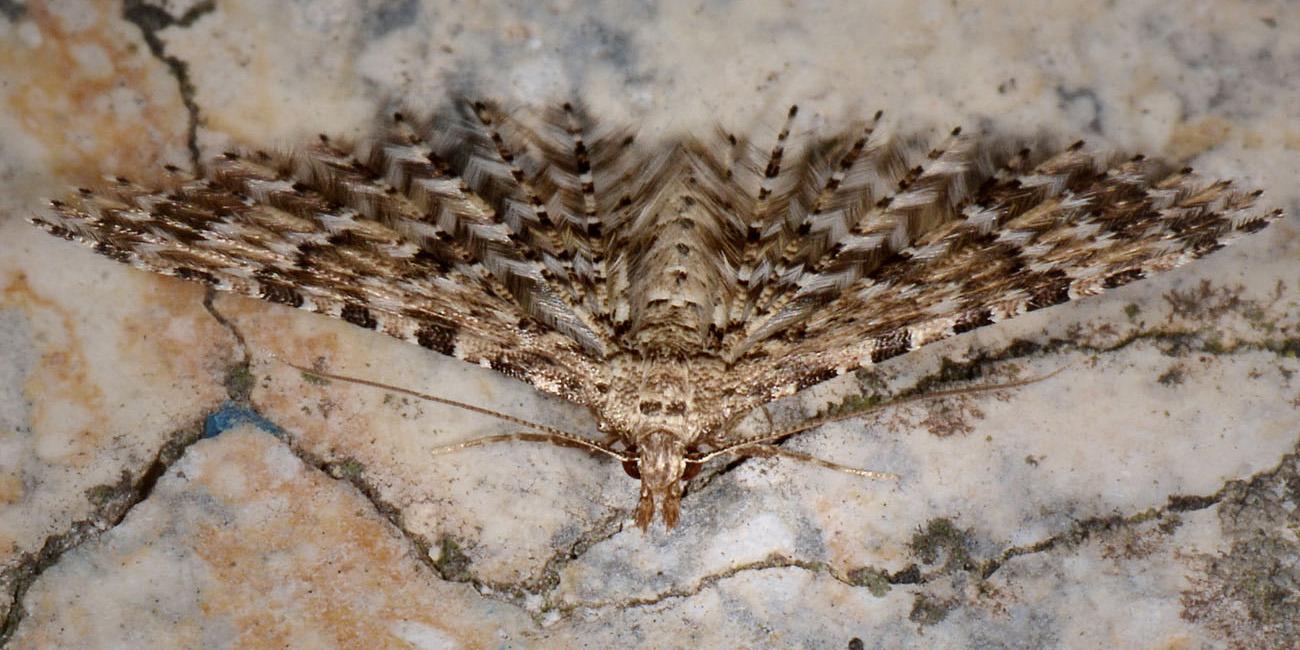Alucitidae: (21, 85, 1293, 533)
moth: (23, 87, 1295, 535)
